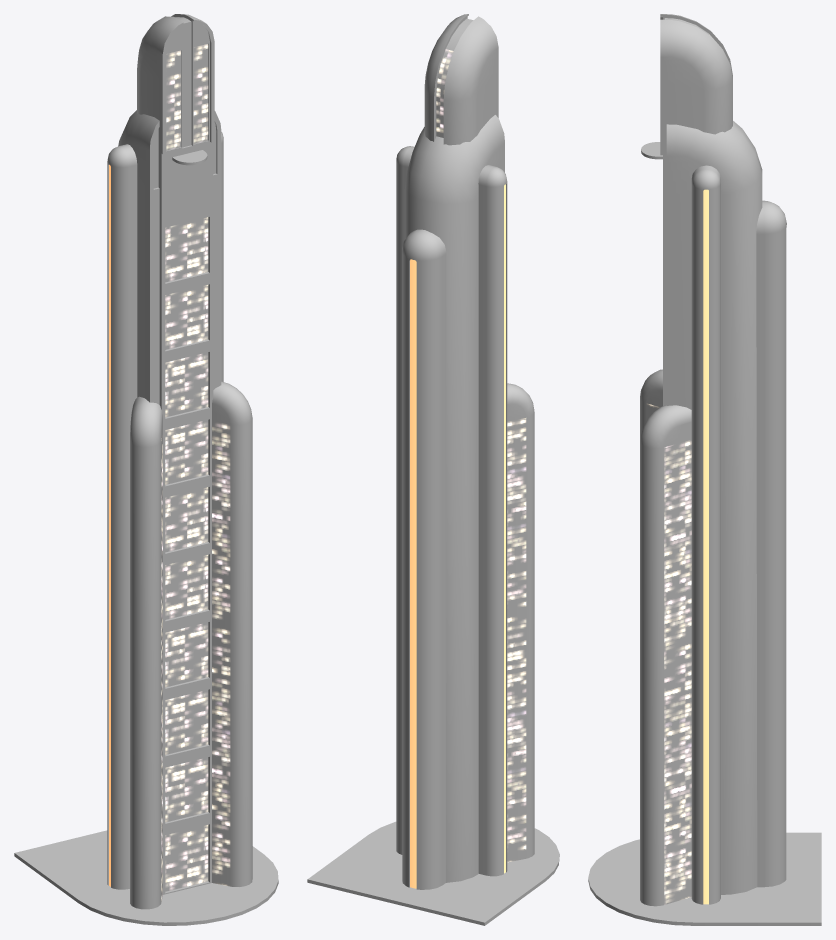
Rendered from FUT0210062.fbx.
The picture shows the model from 3 angles, left to right: view 1: azimuth 30°, elevation 25°; view 2: azimuth 150°, elevation 25°; view 3: azimuth 270°, elevation 25°; orthographic projection. The views are drawn at different scales.
Visible parts, largest first — view 1: smFUT0210062; view 2: smFUT0210062; view 3: smFUT0210062.
Part boxes in pixels (x1,y1,x2,y2): smFUT0210062: (14, 14, 278, 925); smFUT0210062: (307, 14, 559, 925); smFUT0210062: (588, 14, 821, 925).
Bounding box in the file's own units: 761 × 3414 × 836.
